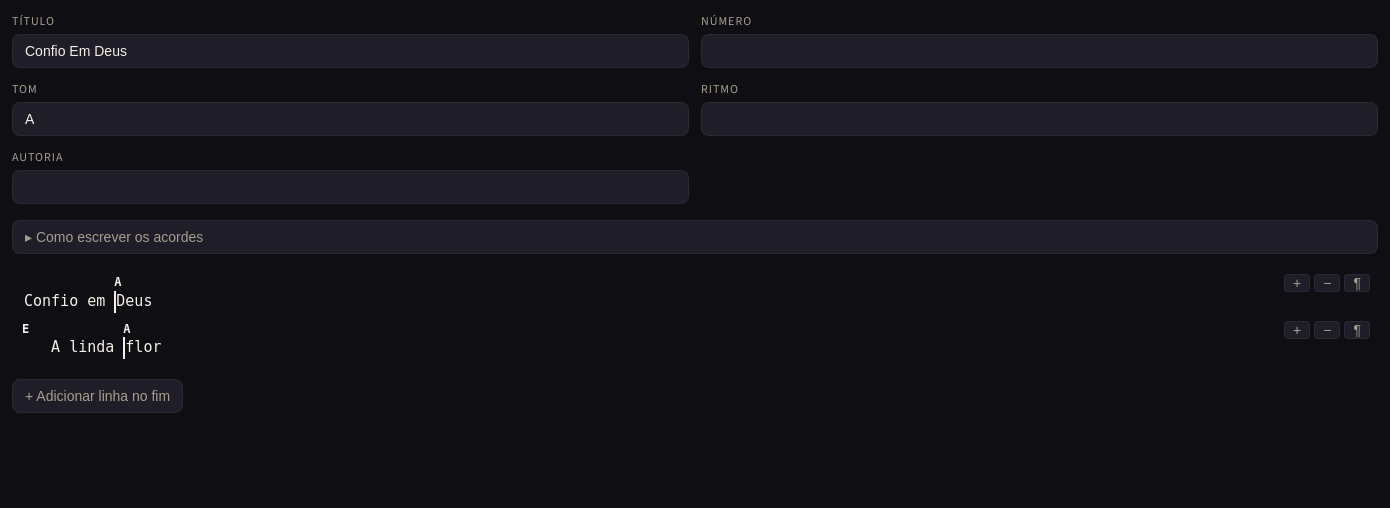
Test case: editar uma linha › clicar na linha abre um campo com o texto dela
Step 1. Click the text "Confio em" → coordinates (68, 302), box [22,291,114,313]
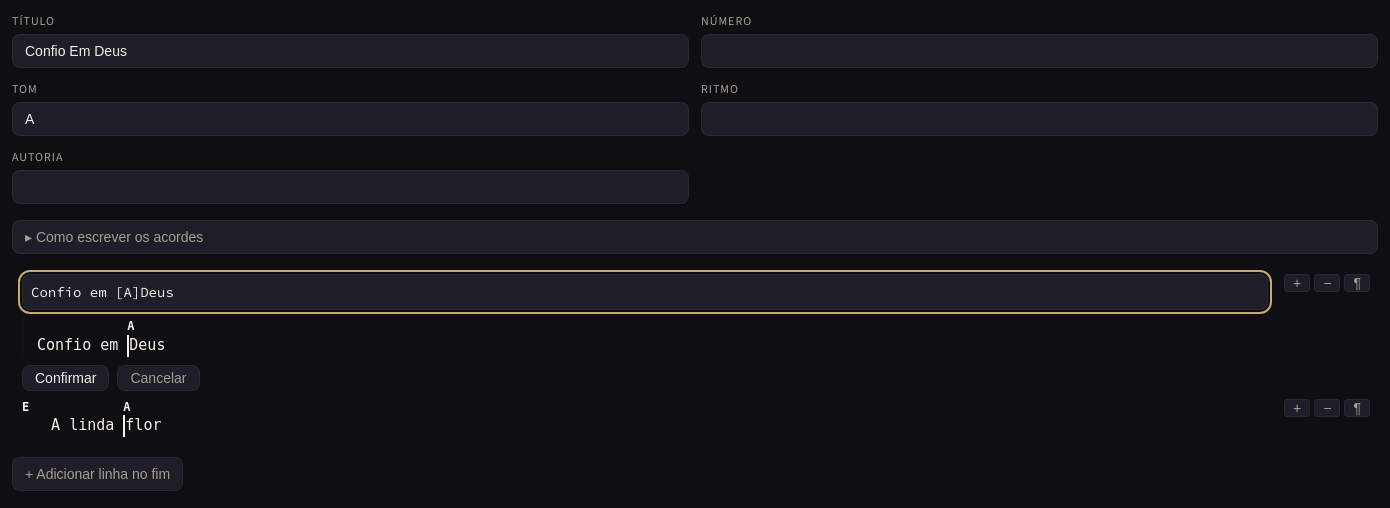
Now the field named "linha" holds "Confio em [A]Deus", box [22,274,1268,310]
